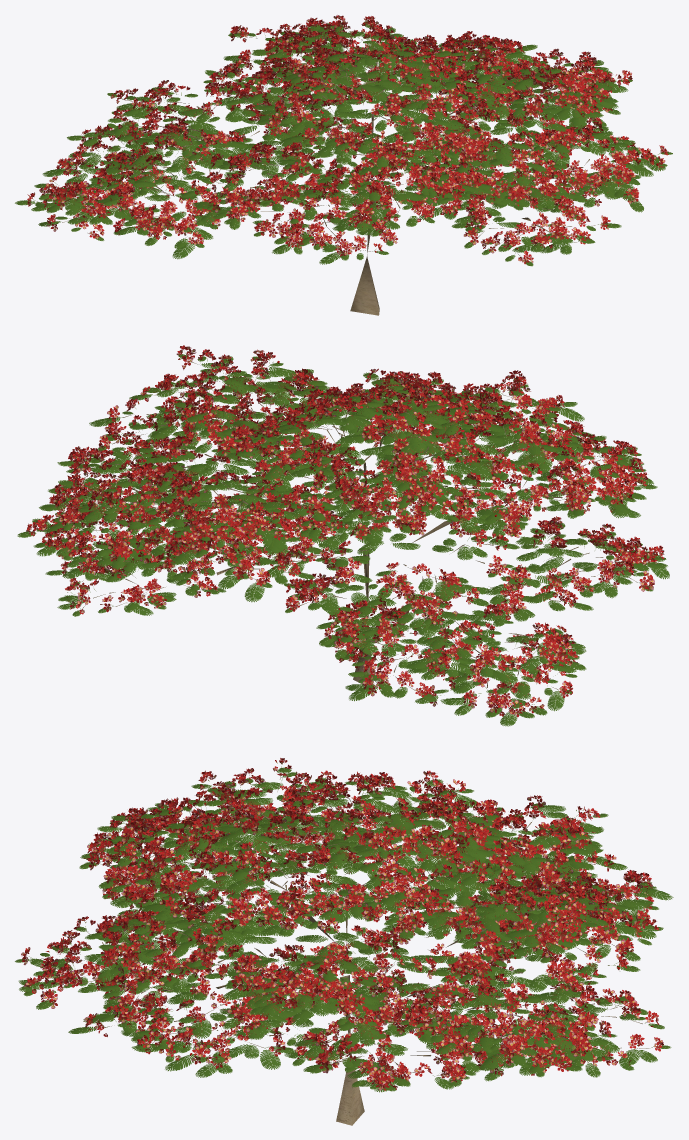
Rendered from tree_poinciana.glb.
3 renders of one model, top to bottom at view 1: azimuth 30°, elevation 25°; view 2: azimuth 150°, elevation 25°; view 3: azimuth 270°, elevation 25°, orthographic. The views are drawn at different scales.
Parts seen in each view (by area): view 1: Delonix_regia_HD; view 2: Delonix_regia_HD; view 3: Delonix_regia_HD.
Part boxes in pixels (bbox=[...]): Delonix_regia_HD: bbox=[15, 15, 672, 315]; Delonix_regia_HD: bbox=[17, 345, 669, 726]; Delonix_regia_HD: bbox=[15, 758, 673, 1125].
Size of the model in its own units: 9.04 by 4.26 by 8.12.
9 materials, 8 textured.
